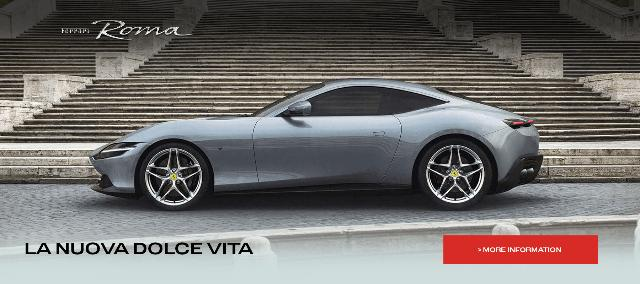ferrari: (88, 78, 544, 210)
